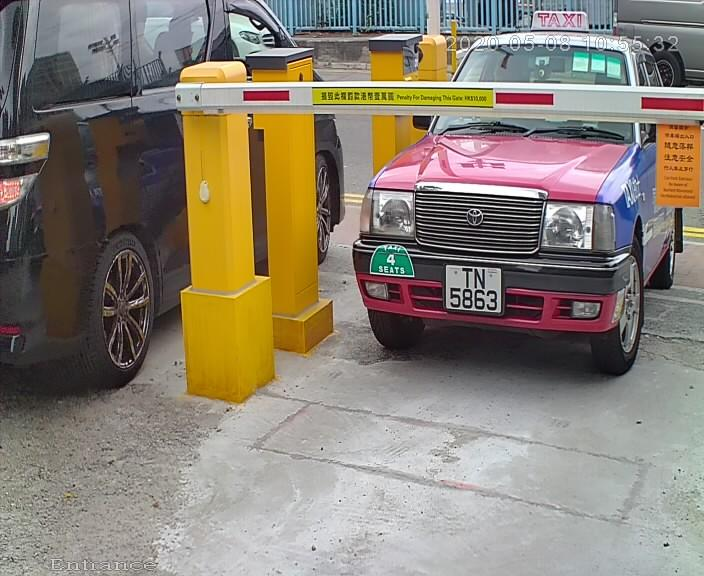Car: (341, 1, 703, 377)
License Plate: (444, 260, 513, 322)
